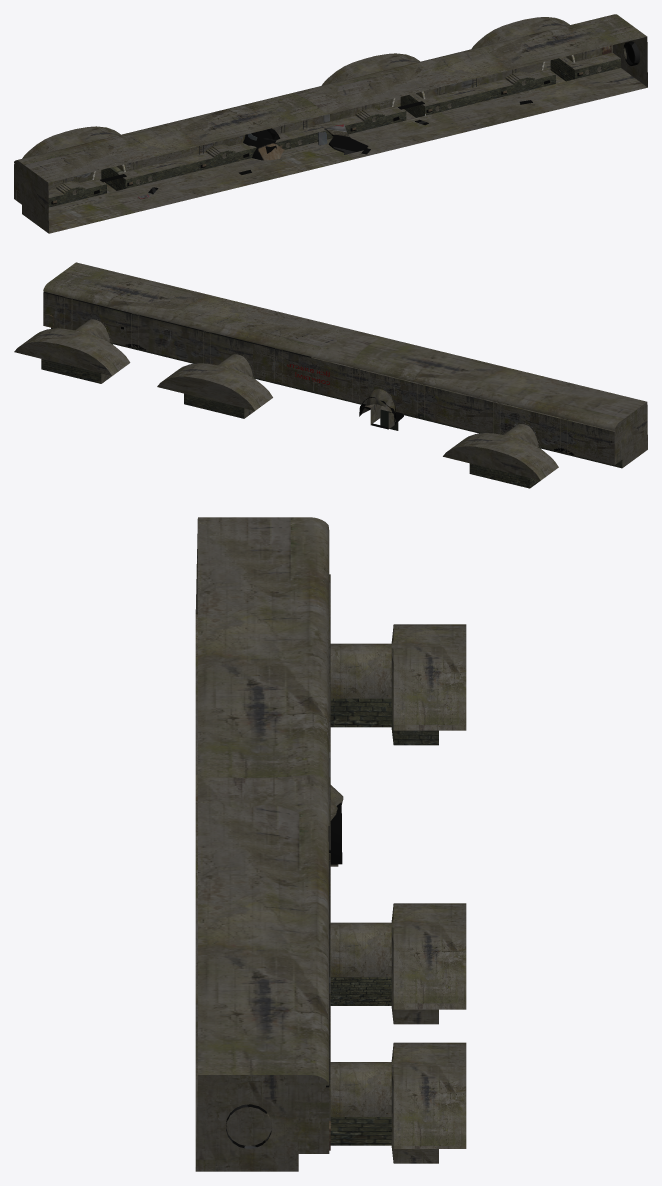
File: Kanalizac2.FBX
3 views of the same model, one above another, from view 1: azimuth 30°, elevation 25°; view 2: azimuth 150°, elevation 25°; view 3: azimuth 270°, elevation 25° (orthographic). The views are drawn at different scales.
Parts seen in each view (by area): view 1: LpcationKanalizac, Musor; view 2: LpcationKanalizac; view 3: LpcationKanalizac, Musor.
Part boxes in pixels (x1,y1,x2,y2): LpcationKanalizac: [14, 14, 647, 233]; Musor: [51, 41, 639, 204]; LpcationKanalizac: [14, 262, 647, 488]; LpcationKanalizac: [195, 517, 466, 1171]; Musor: [226, 802, 342, 1148].
Size of what is drawn, in the model's own units: 431 by 46.99 by 87.89.
